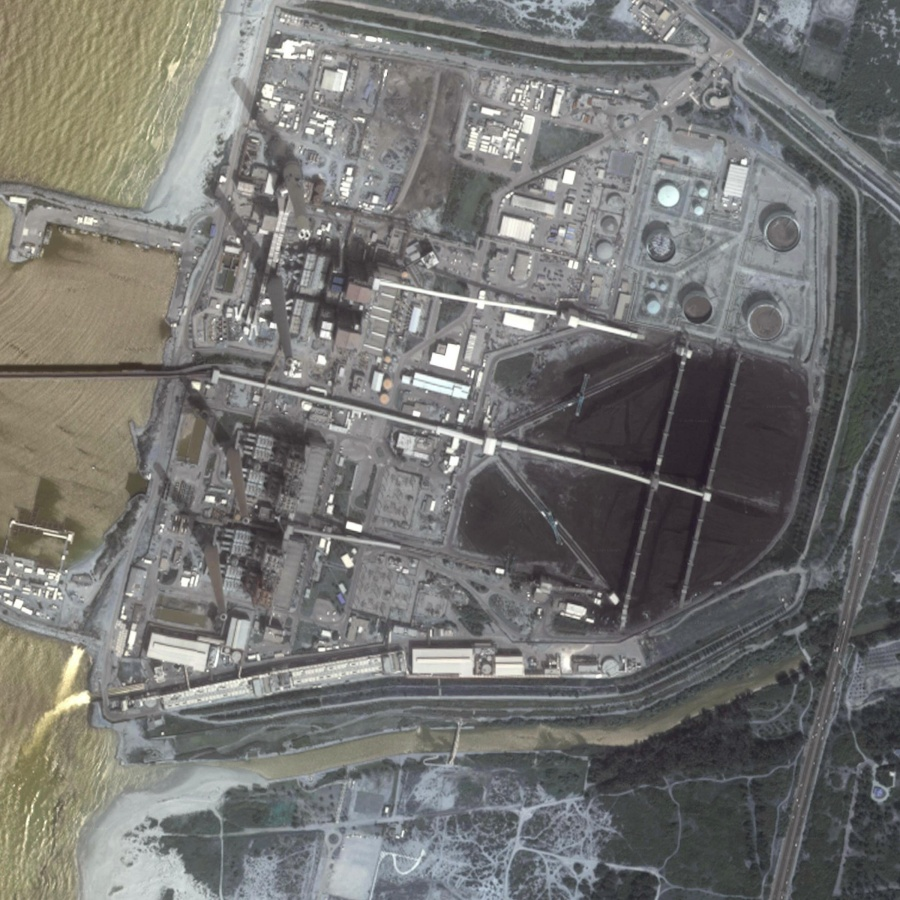PowerPlant: (453, 216, 814, 612), (120, 207, 381, 628)
